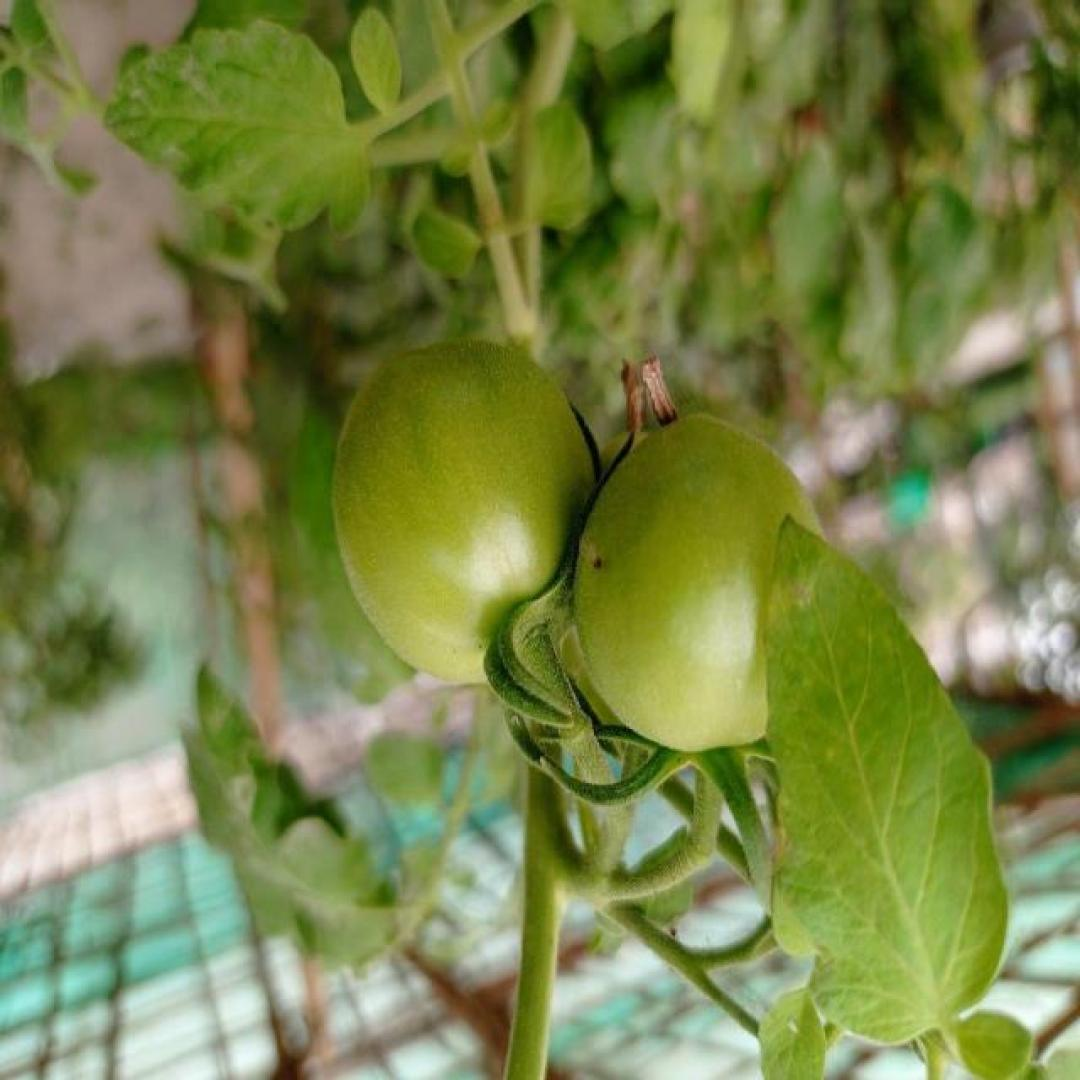mentah: (331, 341, 604, 688), (572, 415, 835, 756)
